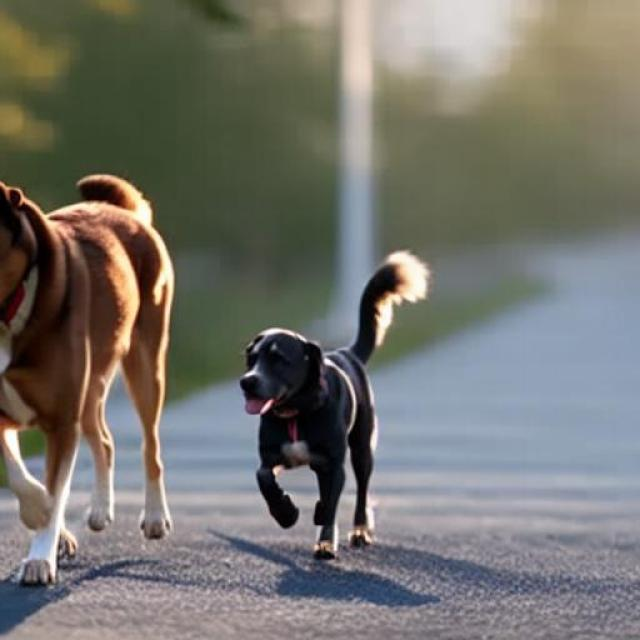Dog: (0, 174, 175, 586), (240, 249, 432, 558)
